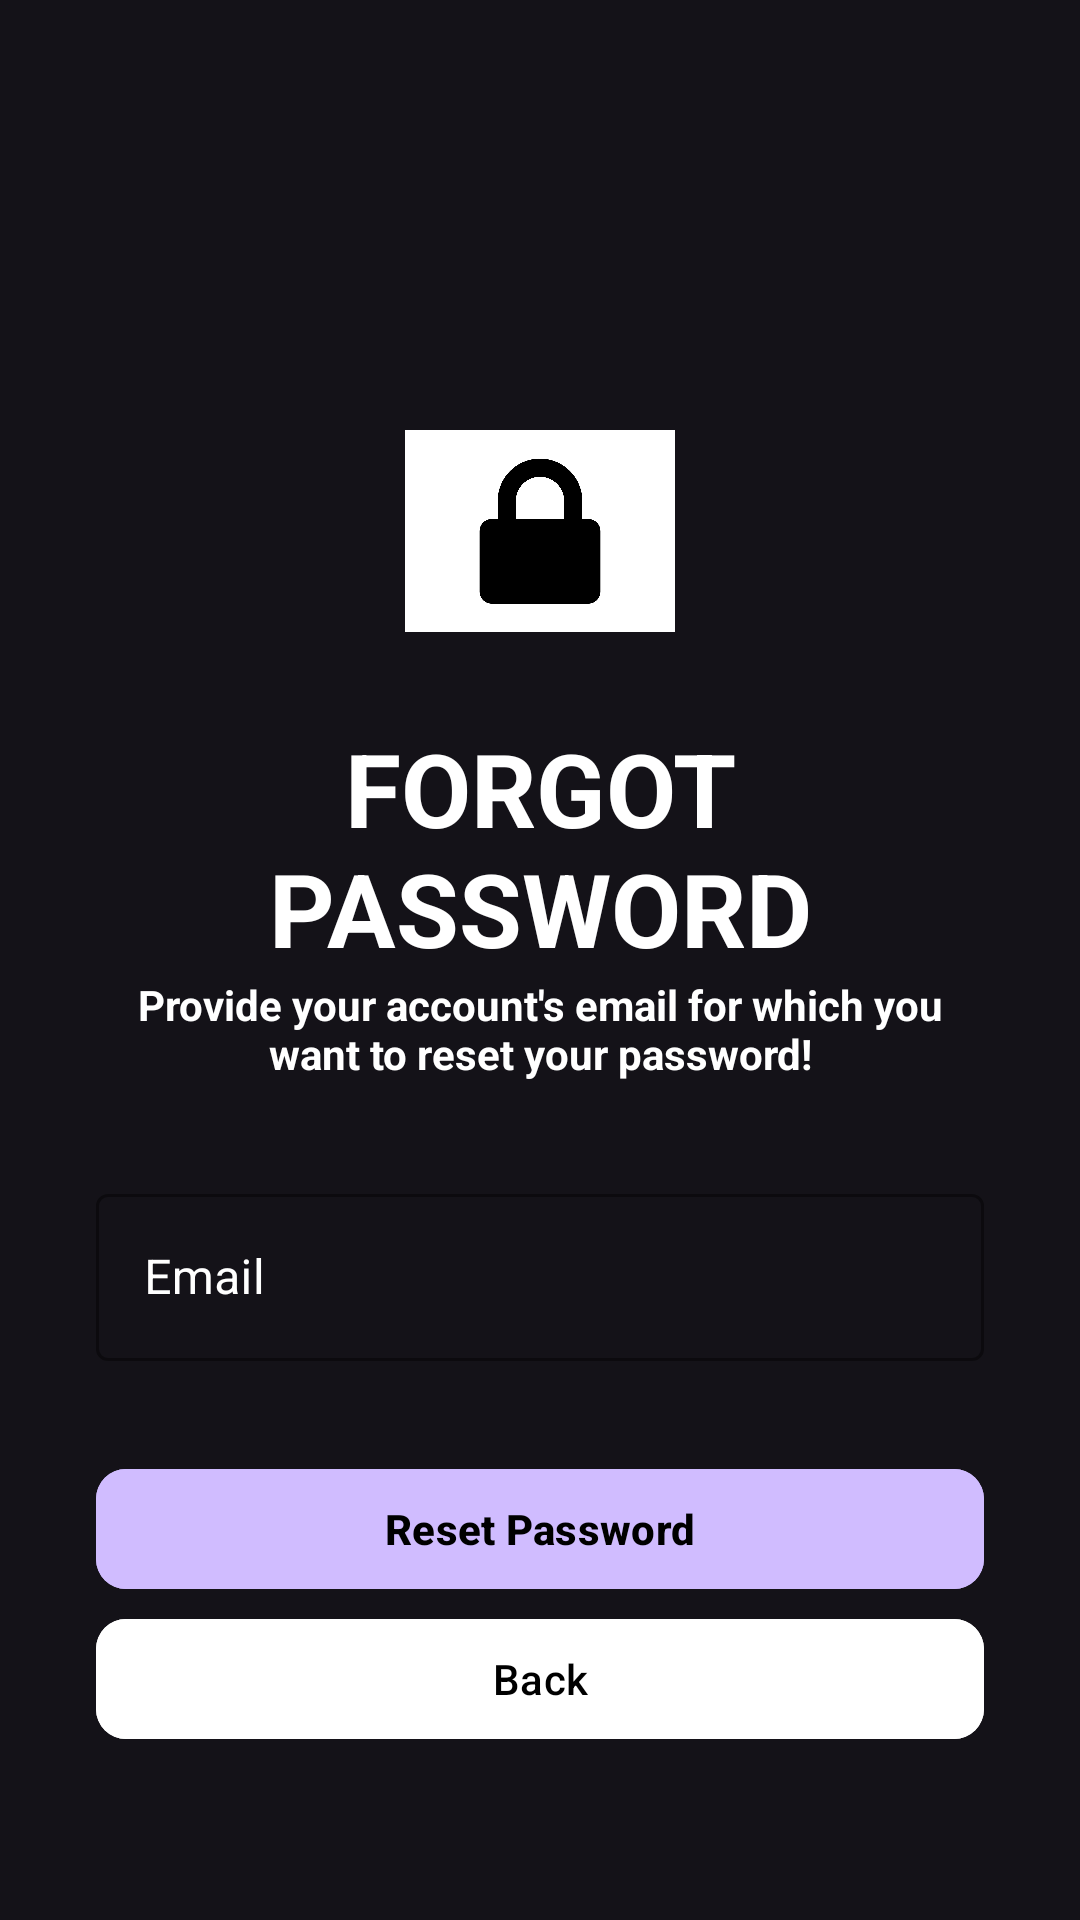

Locate icon controls on the screen. Image size 1080px x 1920px, boxes as BBox(x1, y1, x2, y2).
lock: BBox(405, 430, 675, 632)
